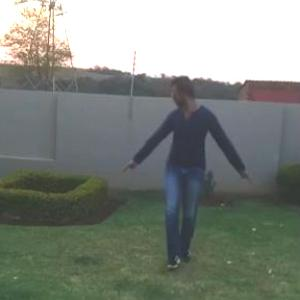land: (109, 66, 282, 290)
